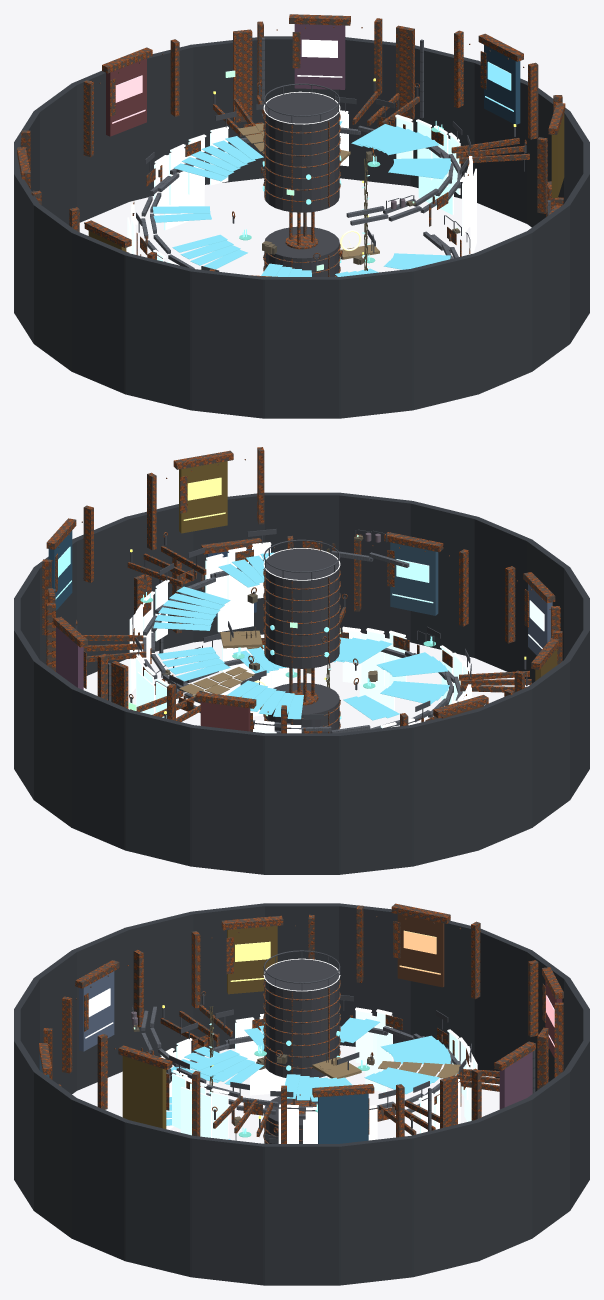
Rendered from channels_dressing.glb.
3 renders of one model, top to bottom at view 1: azimuth 30°, elevation 25°; view 2: azimuth 150°, elevation 25°; view 3: azimuth 270°, elevation 25°, orthographic.
Visible parts, largest first — view 1: ShaftBand_8, ShaftBand_9, ShaftBand_7, ShaftBand_6, ShaftBand_10, Drum_shell_1, ShaftBand_11, ShaftBand_5, ShaftBand_18, ShaftBand_4, ShaftBand_12, ShaftBand_21 (+33 smaller); view 2: ShaftBand_16, ShaftBand_17, ShaftBand_15, ShaftBand_18, ShaftBand_14, Drum_shell_1, ShaftBand_19, ShaftBand_13, ShaftBand_5, ShaftBand_7, ShaftBand_6, ShaftBand_1 (+38 smaller); view 3: ShaftBand_0, ShaftBand_1, ShaftBand_23, ShaftBand_22, ShaftBand_2, ShaftBand_3, ShaftBand_21, Drum_shell_1, ShaftBand_10, ShaftBand_13, ShaftBand_15, ShaftBand_20 (+47 smaller).
Part boxes in pixels (x1,y1,x2,y2): ShaftBand_8: (263, 277, 340, 418); ShaftBand_9: (190, 269, 265, 418); ShaftBand_7: (338, 269, 413, 418); ShaftBand_6: (410, 253, 479, 409); ShaftBand_10: (124, 253, 192, 409); Drum_shell_1: (264, 92, 339, 212); ShaftBand_11: (71, 231, 127, 394); ShaftBand_5: (475, 231, 532, 394); ShaftBand_18: (129, 45, 193, 201); ShaftBand_4: (527, 203, 569, 371); ShaftBand_12: (34, 203, 76, 371); ShaftBand_21: (339, 37, 410, 186); ShaftBand_16: (263, 733, 340, 874); ShaftBand_17: (190, 725, 265, 874); ShaftBand_15: (338, 725, 413, 874); ShaftBand_18: (124, 709, 191, 866); ShaftBand_14: (410, 709, 479, 866); Drum_shell_1: (264, 548, 339, 668); ShaftBand_19: (71, 687, 128, 850); ShaftBand_13: (475, 687, 532, 850); ShaftBand_5: (339, 492, 413, 642); ShaftBand_7: (474, 517, 532, 678); ShaftBand_6: (410, 501, 478, 657); ShaftBand_1: (72, 517, 129, 675); ShaftBand_0: (263, 1144, 340, 1285); ShaftBand_1: (190, 1135, 264, 1285); ShaftBand_23: (338, 1135, 413, 1285); ShaftBand_22: (409, 1120, 479, 1276); ShaftBand_2: (124, 1120, 191, 1276); ShaftBand_3: (71, 1098, 129, 1260); ShaftBand_21: (474, 1098, 532, 1260); Drum_shell_1: (264, 959, 339, 1077); ShaftBand_10: (126, 912, 193, 1056); ShaftBand_13: (338, 903, 410, 1046); ShaftBand_15: (474, 929, 532, 1077); ShaftBand_20: (526, 1071, 569, 1238).
Bounding box in the file's own units: 52.62 × 23.27 × 52.62.
Materials: 60 (12 with a texture image).
